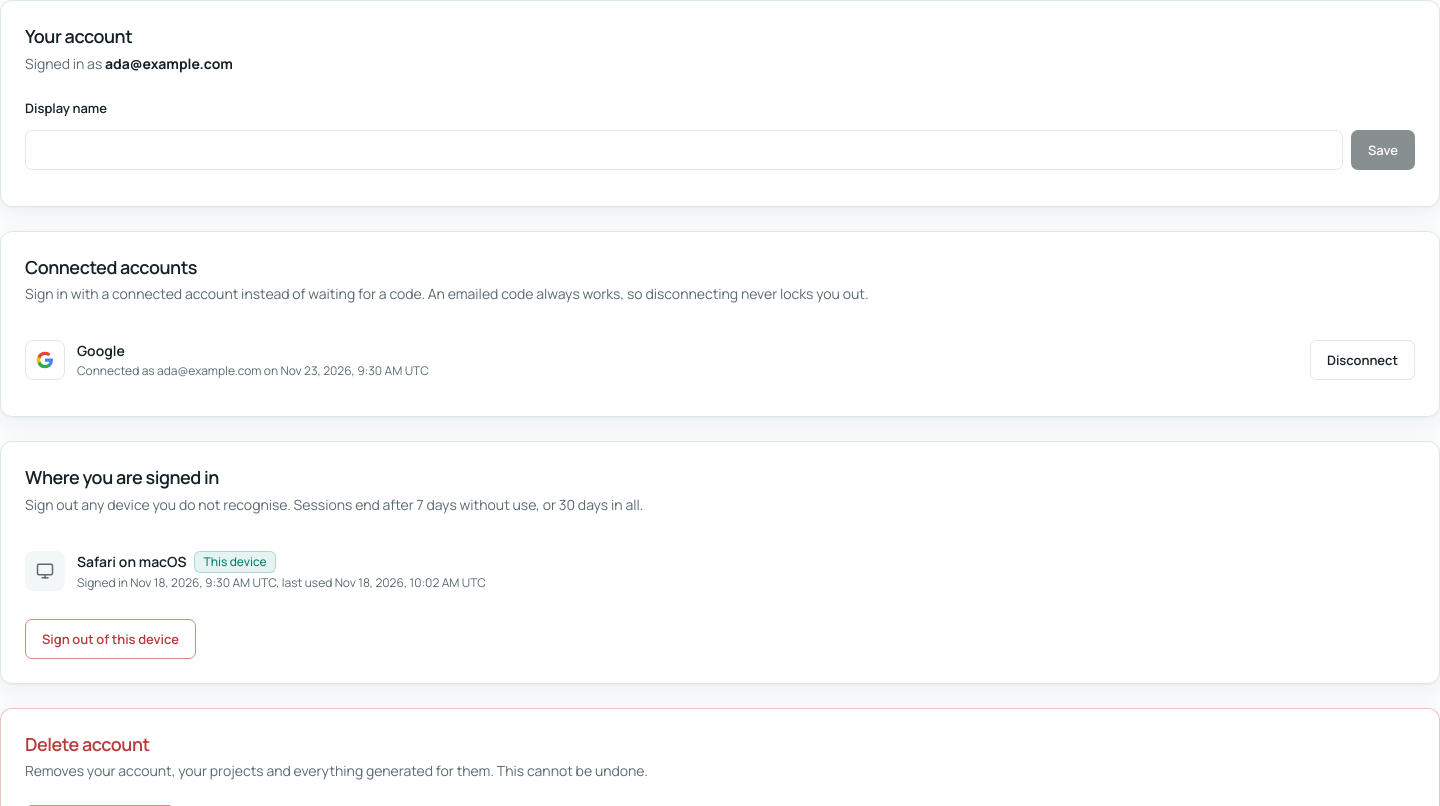
AccountView: connected accounts › asks before disconnecting, and Keep it changes nothing
This screenshot has width=1440, height=806.
Later steps or results of the test are not shown.
Step 1. Click the button with aria-label "Disconnect Google" → (1362,360), box [1310,340,1415,380]
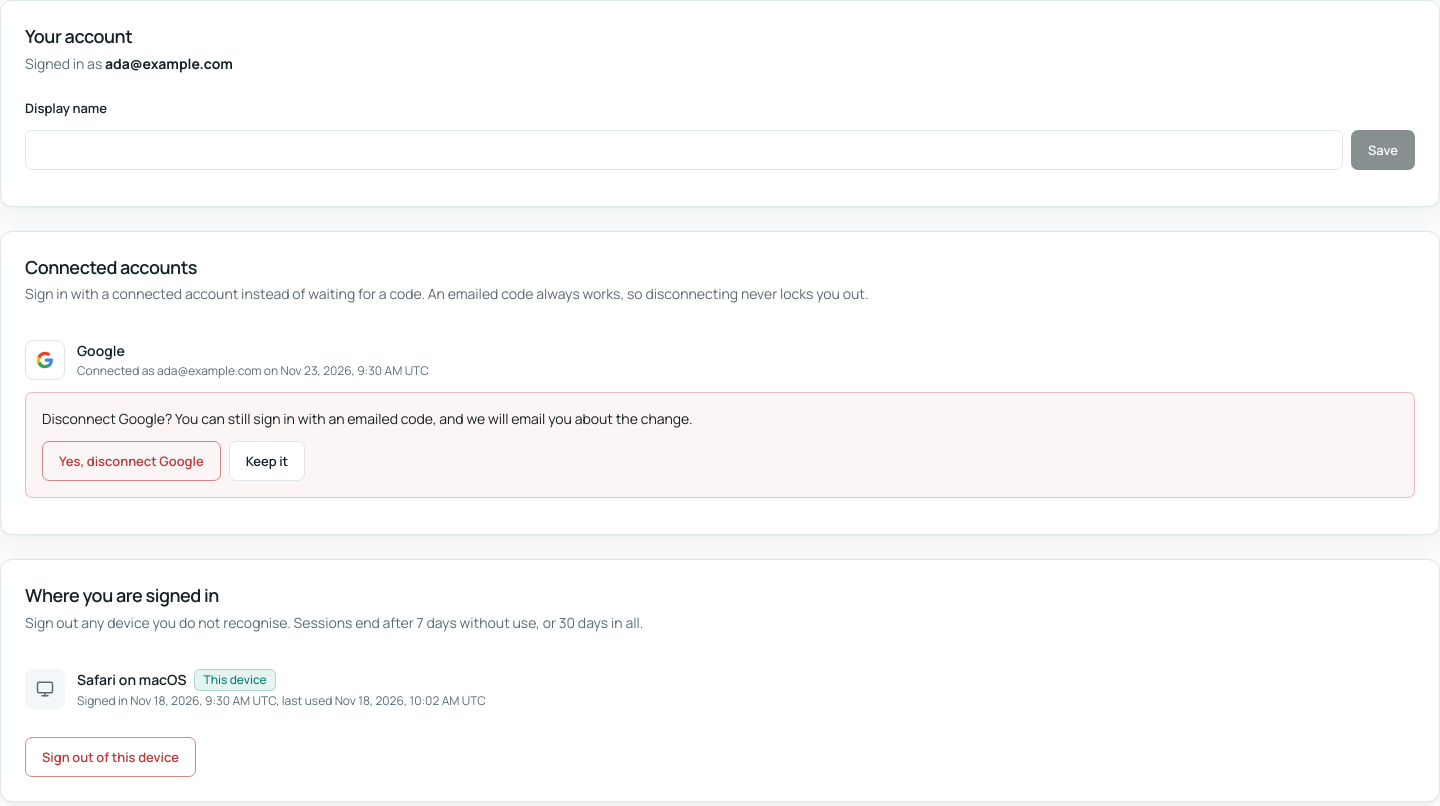
Expected: the element named "confirm disconnecting google" shows "still sign in with an emailed code", [165,409,692,428]
